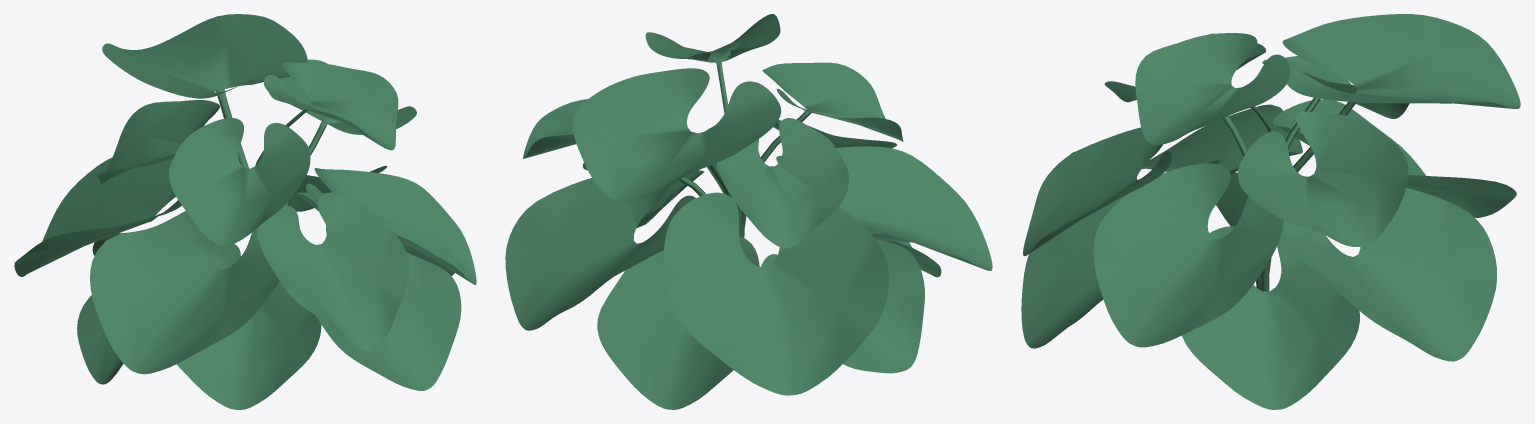
File: Leaf-Bundle-S03A.fbx
3 views of the same model, side by side, from view 1: azimuth 30°, elevation 25°; view 2: azimuth 150°, elevation 25°; view 3: azimuth 270°, elevation 25° (orthographic). The views are drawn at different scales.
Visible parts, largest first — view 1: Leaf-Bundle-S03A; view 2: Leaf-Bundle-S03A; view 3: Leaf-Bundle-S03A.
Part boxes in pixels (x1,y1,x2,y2): Leaf-Bundle-S03A: [14, 14, 476, 409]; Leaf-Bundle-S03A: [505, 14, 992, 409]; Leaf-Bundle-S03A: [1021, 14, 1520, 409].
Bounding box in the file's own units: 129 × 89.29 × 136.
